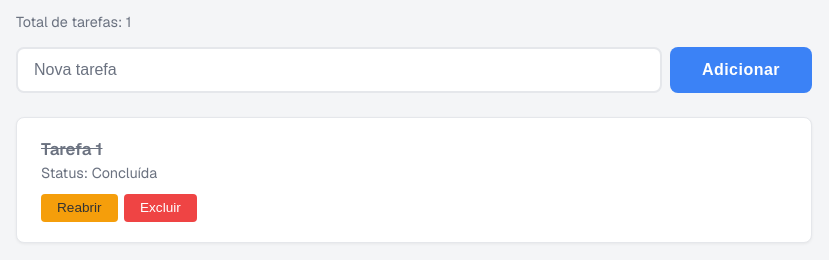
Test: ListaDeTarefas › reabre uma tarefa concluída
The width and height of the screenshot is (829, 260).
Step 1. Click the button "Reabrir" → coordinates (79, 208), box [41,194,118,222]
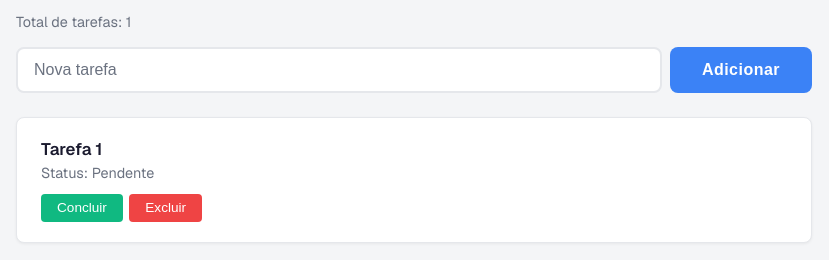
Expected: the button "Concluir" is shown, [41,194,123,222]
